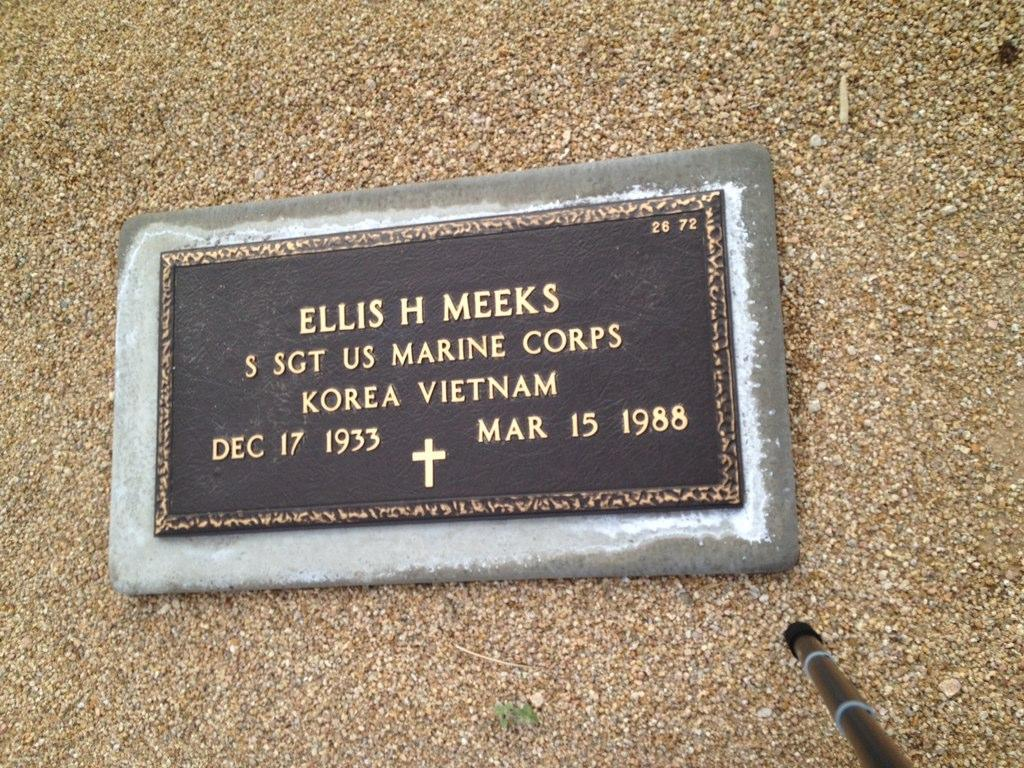flat: (100, 142, 814, 594)
